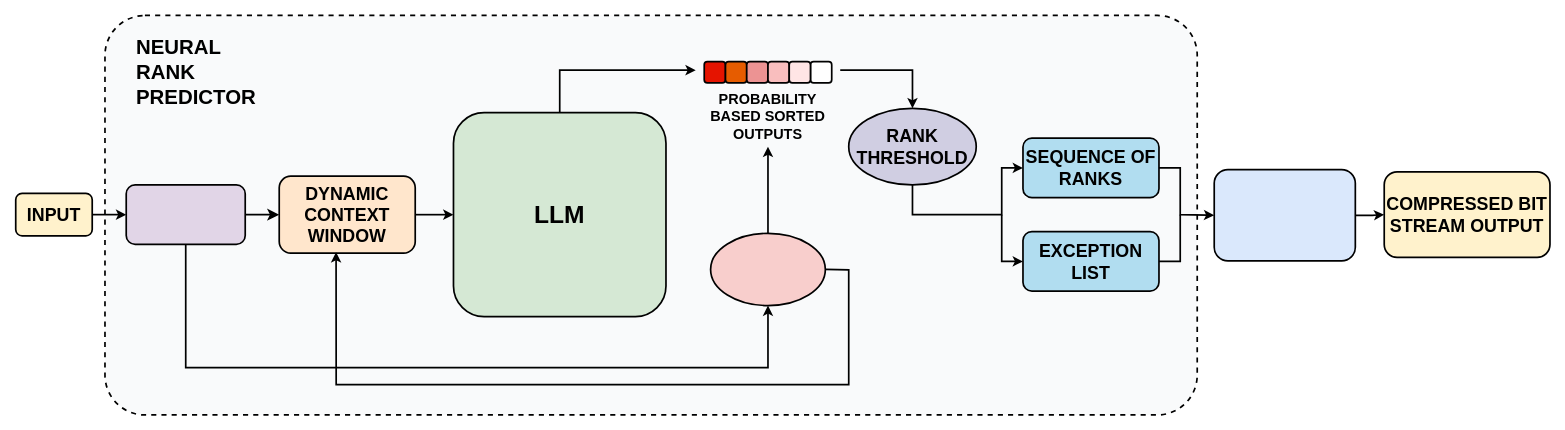
Some shapes in this 1565 by 430 pixel diagram are drawn without their labels. The centre of each missing label's shape, as x and y in pixels:
RIGHT TOKEN ID: point 767,269
STANDARD COMPRESSOR: point 1284,214
TOKENIZER: point 185,214
